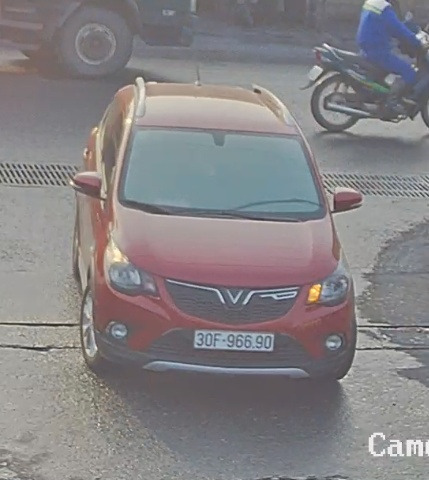vehicle plate: (191, 327, 281, 355)
